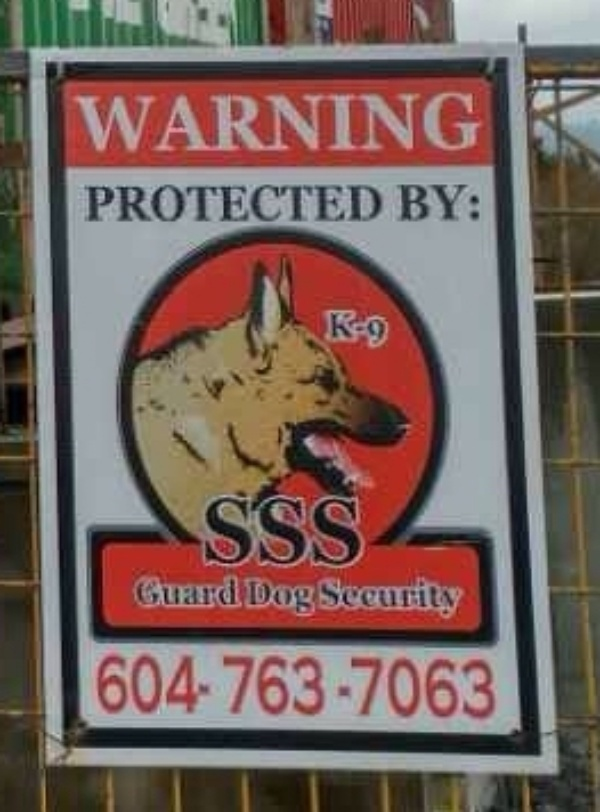text: (209, 493, 224, 571), (225, 493, 240, 571), (241, 493, 256, 571), (257, 493, 272, 571), (273, 493, 288, 571), (289, 493, 304, 571), (305, 493, 320, 571), (321, 493, 336, 571), (337, 493, 352, 571), (97, 648, 112, 721), (113, 648, 128, 721), (129, 648, 144, 721), (145, 648, 160, 721), (161, 648, 176, 721), (177, 648, 192, 721), (193, 648, 208, 721), (209, 648, 224, 721), (225, 648, 240, 721), (241, 648, 256, 721), (257, 648, 272, 721), (273, 648, 288, 721), (289, 648, 304, 721), (305, 648, 320, 721), (321, 648, 336, 721), (337, 648, 352, 721), (353, 648, 368, 721), (369, 648, 384, 721), (385, 648, 400, 721), (401, 648, 416, 721), (417, 648, 432, 721), (433, 648, 448, 721), (449, 648, 464, 721), (465, 648, 480, 721), (481, 648, 496, 721), (353, 493, 366, 571), (81, 89, 96, 153), (97, 89, 112, 153), (113, 89, 128, 153), (129, 89, 144, 153), (145, 89, 160, 153), (161, 89, 176, 153), (177, 89, 192, 153), (193, 89, 208, 153), (209, 89, 224, 153), (225, 89, 240, 153), (241, 89, 256, 153), (257, 89, 272, 153), (273, 89, 288, 153), (289, 89, 304, 153), (305, 89, 320, 153), (321, 89, 336, 153), (337, 89, 352, 153), (353, 89, 368, 153), (369, 89, 384, 153), (385, 89, 400, 153), (401, 89, 416, 153), (417, 89, 432, 153), (433, 89, 448, 153), (449, 89, 464, 153), (465, 89, 477, 153), (401, 181, 416, 224), (417, 181, 432, 224), (433, 181, 448, 224), (449, 181, 464, 224), (465, 181, 480, 224), (97, 183, 112, 224), (113, 183, 128, 224), (129, 183, 144, 224), (145, 183, 160, 224), (161, 183, 176, 224), (177, 183, 192, 224), (193, 183, 208, 224), (209, 183, 224, 224), (225, 183, 240, 224), (241, 183, 256, 224), (257, 183, 272, 224), (273, 183, 288, 224), (289, 183, 304, 224), (305, 183, 320, 224), (321, 183, 336, 224), (337, 183, 352, 224), (353, 183, 368, 224), (369, 183, 384, 224), (337, 308, 352, 349), (353, 308, 368, 349), (369, 308, 384, 349), (71, 89, 80, 153), (257, 578, 272, 616), (273, 578, 288, 616), (289, 578, 304, 616), (145, 573, 160, 610), (161, 573, 176, 610), (177, 573, 192, 610), (193, 573, 208, 610), (209, 573, 224, 610), (225, 573, 240, 610), (201, 493, 208, 571), (321, 580, 336, 616), (337, 580, 352, 616), (353, 580, 368, 616), (369, 580, 384, 616), (385, 580, 400, 616), (401, 580, 416, 616), (417, 580, 432, 616), (433, 580, 448, 616), (83, 183, 96, 224), (324, 308, 336, 349), (305, 578, 315, 616), (449, 580, 459, 616), (247, 578, 256, 616), (135, 573, 144, 610), (385, 308, 391, 349), (94, 648, 96, 721), (397, 181, 400, 224), (481, 181, 484, 224), (318, 580, 320, 616)
